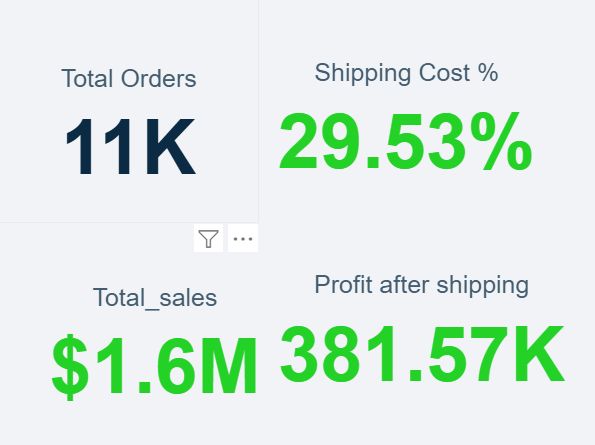

The page's visual inventory and layout, read from the dashboard file:
{"tool":"powerbi","page":{"name":" shipping tool tip 2","canvas":[400,300],"ordinal":5},"visuals":[{"type":"cardVisual","title":"Total  Sales","fields":{"Data":["Meaures.Shipping Cost %"]},"box":[153,0,237,142],"z":0},{"type":"cardVisual","title":"Total  Sales","fields":{"Data":["Meaures.Profit after shipping"]},"box":[163,142,237,142],"z":1000},{"type":"cardVisual","title":"Total  Sales","fields":{"Data":["Meaures.Total Orders"]},"box":[0,0,173,150],"z":2000},{"type":"cardVisual","title":"Total  Sales","fields":{"Data":["Meaures.Total_sales"]},"box":[0,150,208,142],"z":3000}]}

Visuals, with their boxes in screenshot pixels (x1, y1, x2, y2), scaled from the page's 400x300 canvas onto the 595x445 screenshot:
"Total  Sales" cardVisual: bbox(228, 0, 580, 211)
"Total  Sales" cardVisual: bbox(242, 211, 594, 421)
"Total  Sales" cardVisual: bbox(0, 0, 257, 222)
"Total  Sales" cardVisual: bbox(0, 222, 309, 433)
